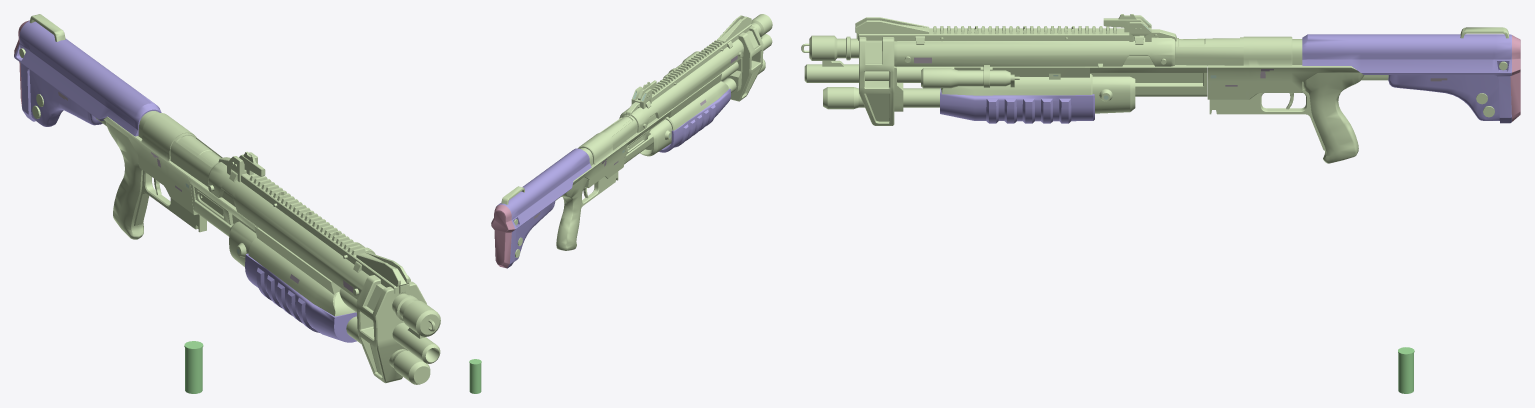
3 views of the same model, side by side, from view 1: azimuth 30°, elevation 25°; view 2: azimuth 150°, elevation 25°; view 3: azimuth 270°, elevation 25° (orthographic). The views are drawn at different scales.
Parts seen in each view (by area): view 1: v_m45e_shotgun_body.001, v_m45e_shotgun_body.003, v_m45e_shotgun_body.005; view 2: v_m45e_shotgun_body.001, v_m45e_shotgun_body.003, v_m45e_shotgun_body, v_m45e_shotgun_body.005; view 3: v_m45e_shotgun_body.001, v_m45e_shotgun_body.003, v_m45e_shotgun_body, v_m45e_shotgun_body.005.
Boxes of the visible parts, x1,y1,x2,y2 form: v_m45e_shotgun_body.001: [19, 14, 440, 384]; v_m45e_shotgun_body.003: [14, 20, 356, 342]; v_m45e_shotgun_body.005: [184, 341, 203, 393]; v_m45e_shotgun_body.001: [501, 14, 772, 257]; v_m45e_shotgun_body.003: [496, 88, 730, 268]; v_m45e_shotgun_body: [491, 204, 514, 268]; v_m45e_shotgun_body.005: [469, 359, 481, 393]; v_m45e_shotgun_body.001: [801, 14, 1508, 163]; v_m45e_shotgun_body.003: [940, 34, 1511, 123]; v_m45e_shotgun_body: [1510, 35, 1520, 121]; v_m45e_shotgun_body.005: [1398, 347, 1414, 393].
Bounding box in the file's own units: 598 × 1578 × 3094.
